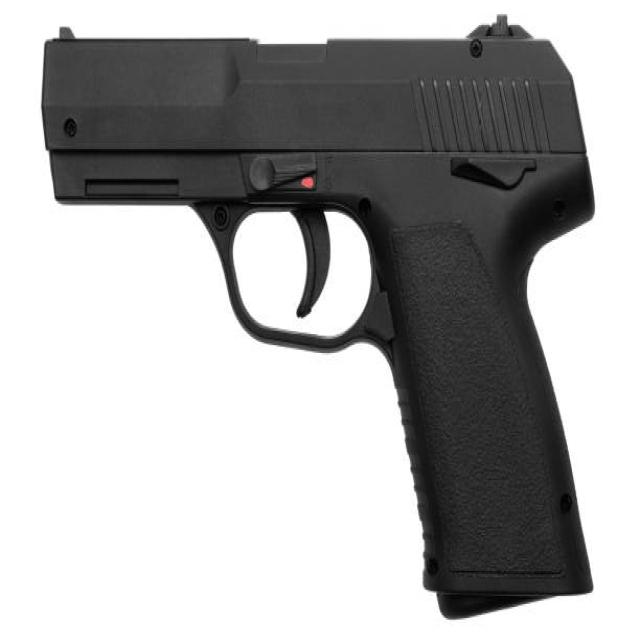pistol: (36, 8, 603, 626)
